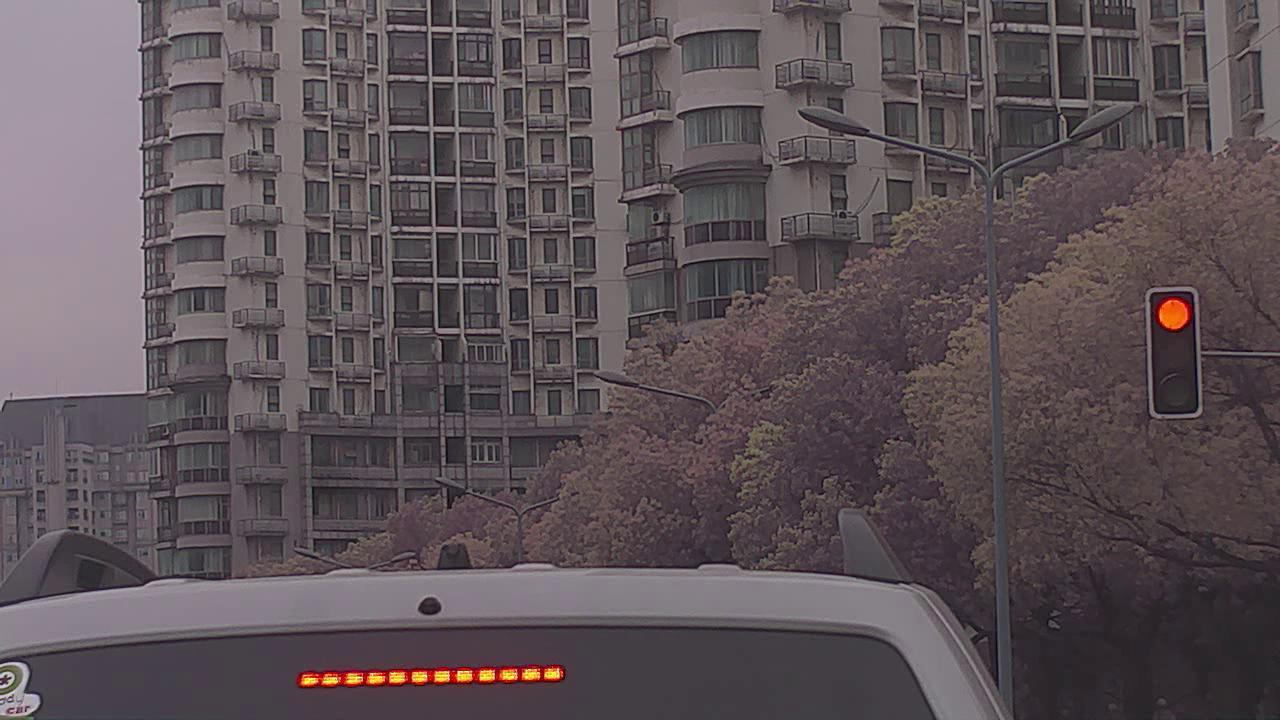traffic_light: (1146, 286, 1206, 420)
